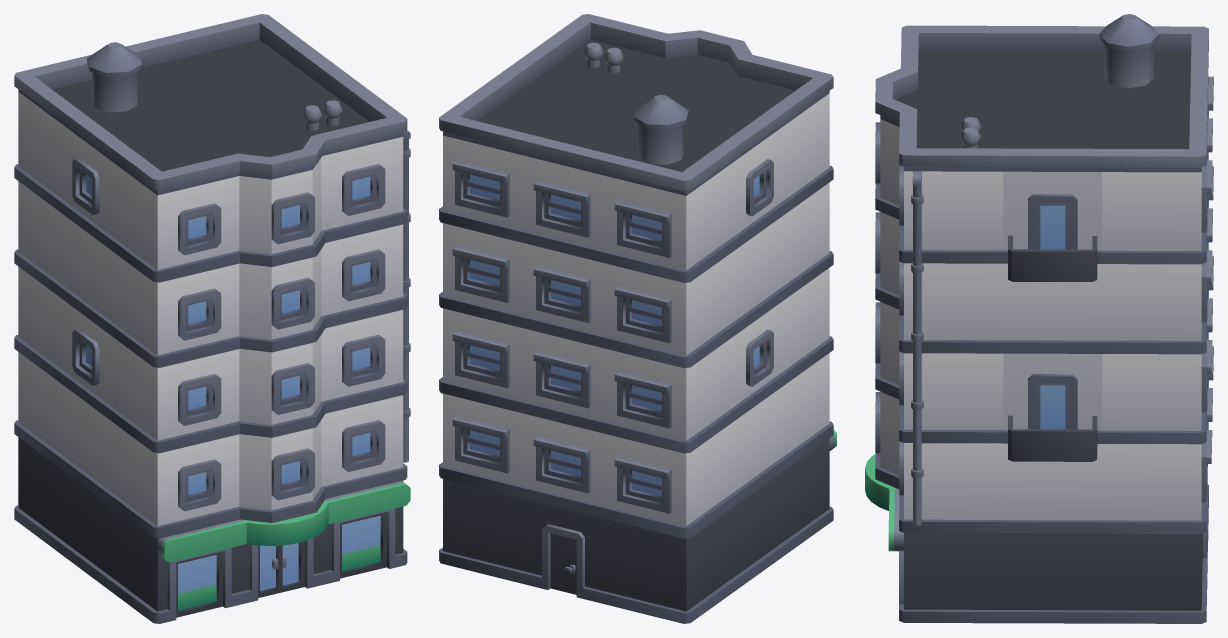
File: building-l.002_lev1.glb
3 renders of one model, left to right at view 1: azimuth 30°, elevation 25°; view 2: azimuth 150°, elevation 25°; view 3: azimuth 270°, elevation 25°, orthographic. The views are drawn at different scales.
Parts seen in each view (by area): view 1: building-l.002_lev1; view 2: building-l.002_lev1; view 3: building-l.002_lev1.
Boxes of the visible parts, x1,y1,x2,y2 form: building-l.002_lev1: (14,14,410,623); building-l.002_lev1: (439,14,836,623); building-l.002_lev1: (865,14,1213,623).
Bounding box in the file's own units: 5.51 × 9.08 × 5.63.
1 material, 1 textured.
